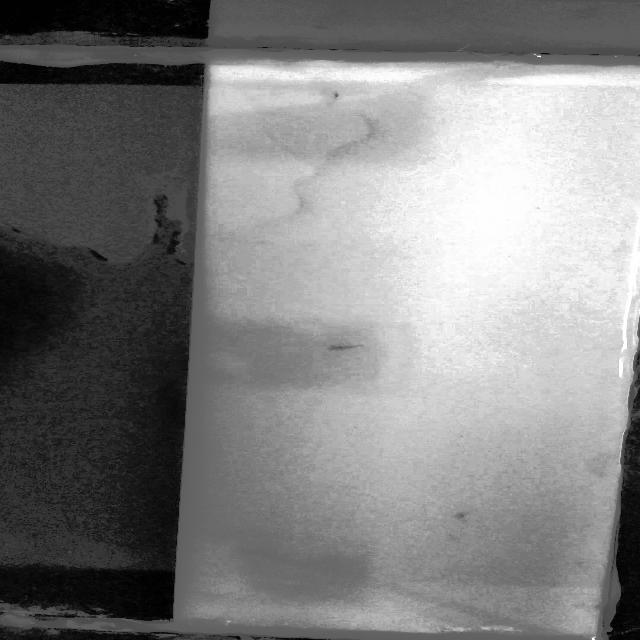shrimp: (319, 339, 364, 356), (444, 508, 471, 522), (321, 90, 347, 102)
